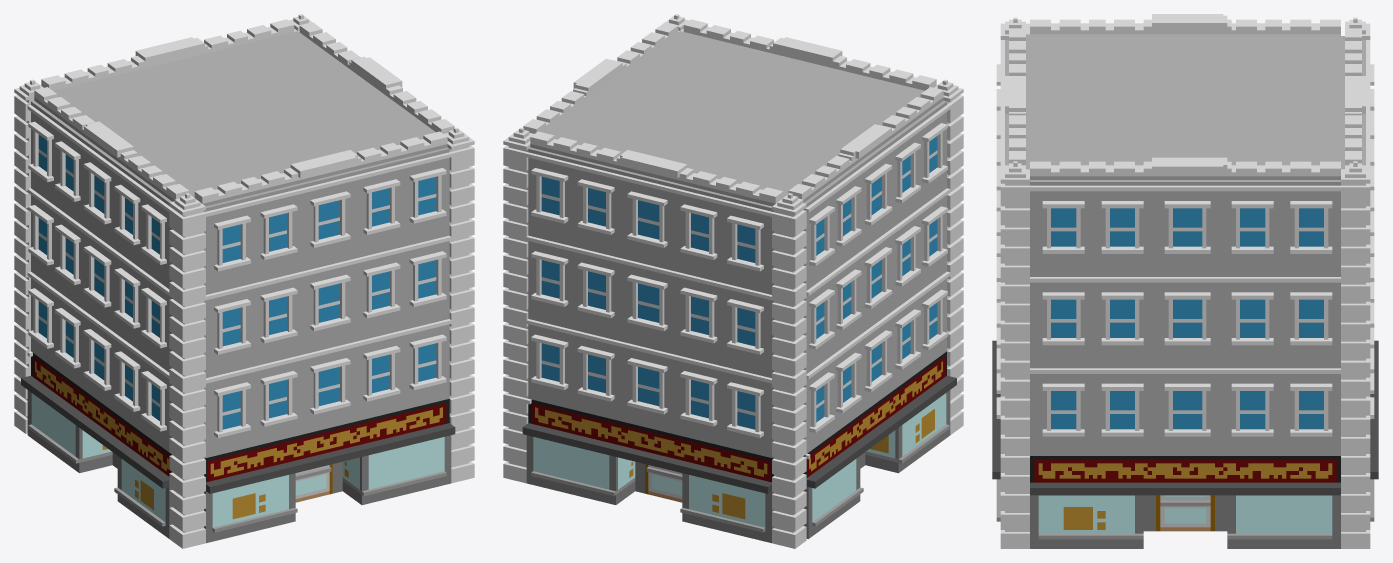
Rendered from obj_store01_White.obj.
The picture shows the model from 3 angles, left to right: view 1: azimuth 30°, elevation 25°; view 2: azimuth 150°, elevation 25°; view 3: azimuth 270°, elevation 25°; orthographic projection. The views are drawn at different scales.
Size of the model in its own units: 9.2 by 10 by 9.2.
Materials: 1 (1 with a texture image).
